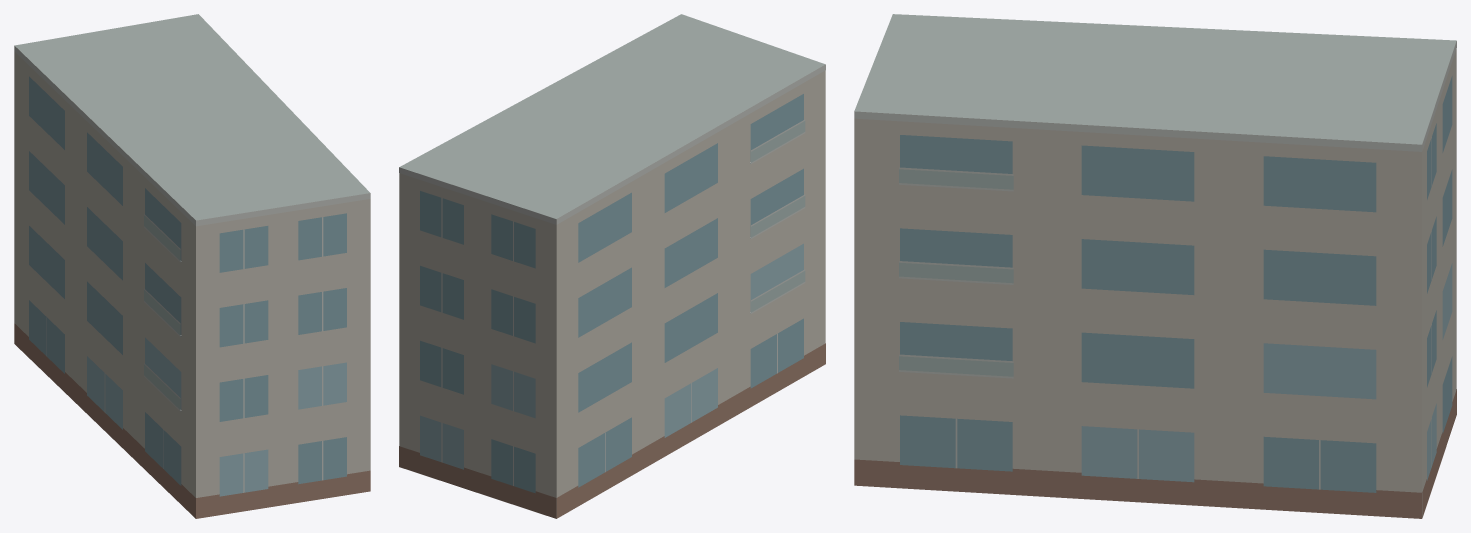
File: survey-upis-32808900.glb
3 renders of one model, left to right at view 1: azimuth 30°, elevation 25°; view 2: azimuth 150°, elevation 25°; view 3: azimuth 270°, elevation 25°, orthographic. The views are drawn at different scales.
Visible parts, largest first — view 1: survey-upis-32808900.tmp; view 2: survey-upis-32808900.tmp; view 3: survey-upis-32808900.tmp.
Part boxes in pixels (<box>): survey-upis-32808900.tmp: <box>14,14,370,518</box>; survey-upis-32808900.tmp: <box>399,14,825,518</box>; survey-upis-32808900.tmp: <box>854,14,1456,518</box>.
Size of the model in its own units: 9.45 by 12.6 by 18.4.
